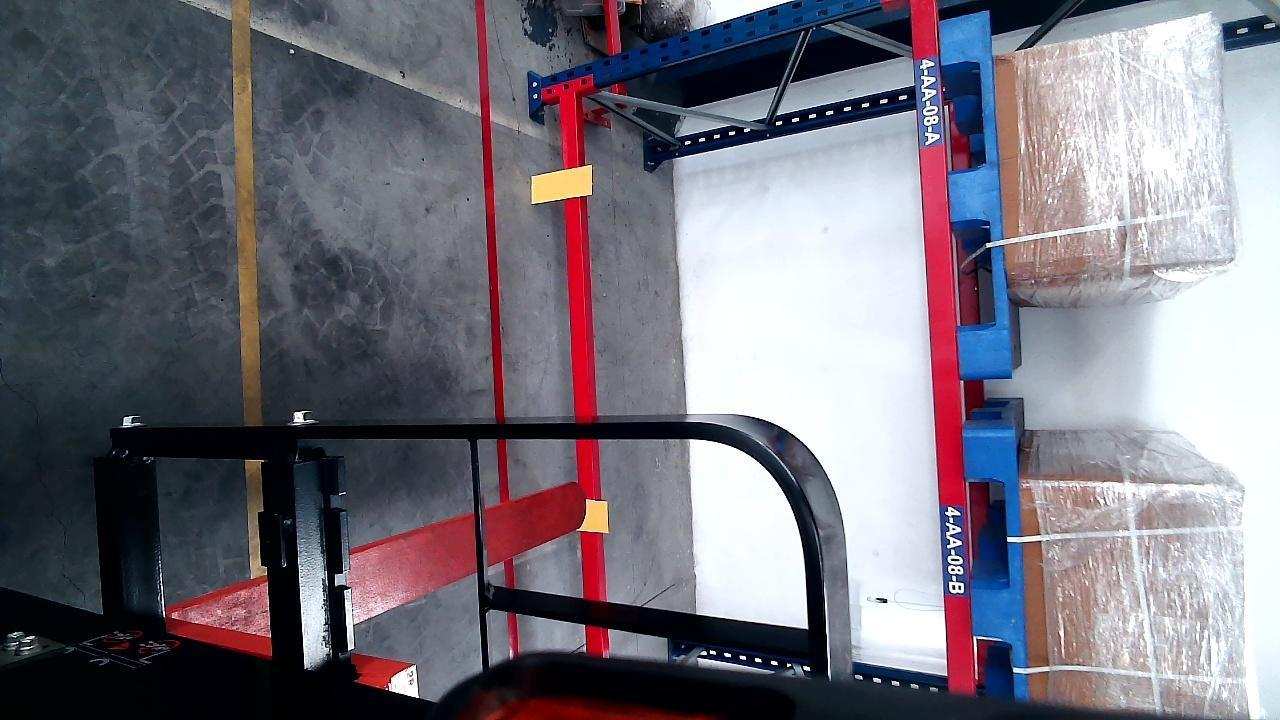h_rack: (916, 3, 972, 688), (563, 96, 602, 629), (559, 93, 591, 418)
orange_strip: (532, 166, 592, 202)
red_line: (478, 0, 505, 429)
small_pallet: (941, 6, 1008, 372), (968, 429, 1027, 694)
yellow_line: (234, 0, 261, 415)
